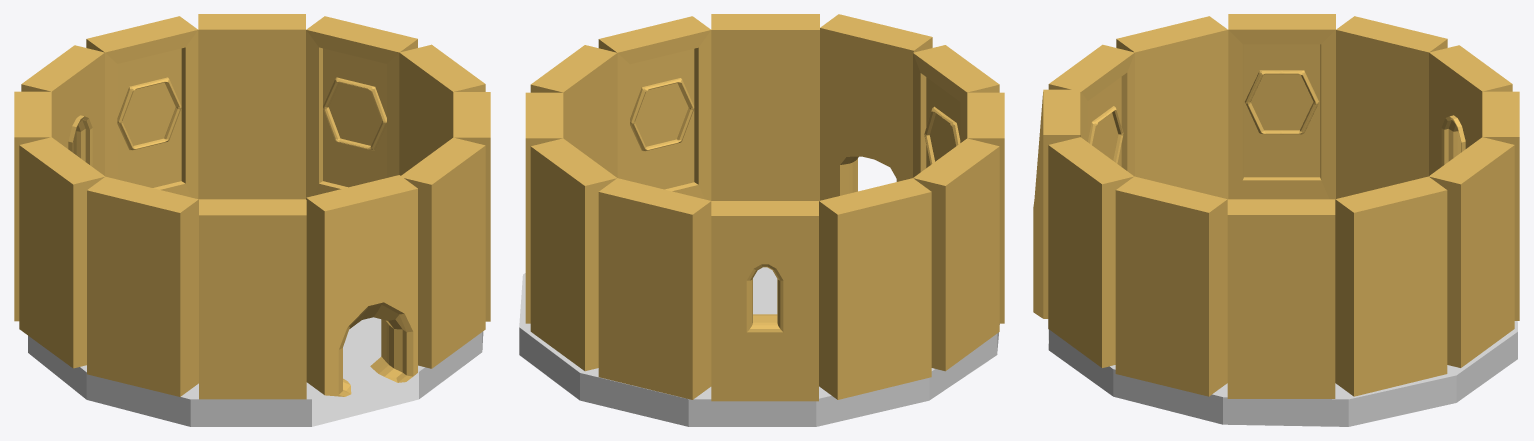
Rendered from stanza_piccola.fbx.
The picture shows the model from 3 angles, left to right: view 1: azimuth 30°, elevation 25°; view 2: azimuth 150°, elevation 25°; view 3: azimuth 270°, elevation 25°; orthographic projection.
Parts seen in each view (by area): view 1: pareteGrande_mod01.004, pareteGrande_mod01.005, pareteGrande_mod01.006, pareteGrande_mod01.021, pareteGrande_mod01.020, pareteGrande_mod01.023, Cylinder.018, pareteGrande_mod01.024, pareteGrande_mod01.007, pareteGrande_mod01.022, pareteGrande_mod02.028, pareteGrande_mod01.025 (+1 smaller); view 2: pareteGrande_mod01.020, pareteGrande_mod01.025, pareteGrande_mod02.028, pareteGrande_mod01.007, pareteGrande_mod01.018, pareteGrande_mod01.006, pareteGrande_mod01.021, pareteGrande_mod01.024, Cylinder.018, pareteGrande_mod01.022, pareteGrande_mod01.005, pareteGrande_mod01.023 (+1 smaller); view 3: pareteGrande_mod01.023, pareteGrande_mod01.018, pareteGrande_mod01.022, pareteGrande_mod01.024, pareteGrande_mod01.004, pareteGrande_mod01.025, pareteGrande_mod01.007, pareteGrande_mod01.021, Cylinder.018, pareteGrande_mod01.005, pareteGrande_mod02.028, pareteGrande_mod01.006 (+1 smaller).
Boxes of the visible parts, x1,y1,x2,y2 form: pareteGrande_mod01.004: (87, 176, 198, 396); pareteGrande_mod01.005: (199, 199, 306, 399); pareteGrande_mod01.006: (306, 175, 417, 396); pareteGrande_mod01.021: (198, 14, 305, 199); pareteGrande_mod01.020: (86, 16, 198, 198); pareteGrande_mod01.023: (306, 16, 417, 197); Cylinder.018: (28, 317, 483, 426); pareteGrande_mod01.024: (19, 137, 105, 368); pareteGrande_mod01.007: (401, 137, 485, 368); pareteGrande_mod01.022: (399, 44, 485, 175); pareteGrande_mod02.028: (21, 45, 104, 175); pareteGrande_mod01.025: (14, 91, 51, 321); pareteGrande_mod01.020: (598, 178, 711, 399); pareteGrande_mod01.025: (819, 178, 931, 399); pareteGrande_mod02.028: (711, 201, 818, 401); pareteGrande_mod01.007: (711, 14, 819, 200); pareteGrande_mod01.018: (598, 16, 711, 200); pareteGrande_mod01.006: (820, 14, 932, 200); pareteGrande_mod01.021: (530, 138, 616, 371); pareteGrande_mod01.024: (913, 138, 999, 371); Cylinder.018: (519, 267, 999, 426); pareteGrande_mod01.022: (530, 45, 617, 177); pareteGrande_mod01.005: (913, 45, 999, 177); pareteGrande_mod01.023: (525, 92, 563, 323); pareteGrande_mod01.023: (1335, 176, 1447, 396); pareteGrande_mod01.018: (1115, 176, 1227, 396); pareteGrande_mod01.022: (1227, 199, 1335, 398); pareteGrande_mod01.024: (1228, 14, 1335, 199); pareteGrande_mod01.004: (1116, 16, 1228, 199); pareteGrande_mod01.025: (1336, 16, 1447, 198); pareteGrande_mod01.007: (1048, 137, 1133, 367); pareteGrande_mod01.021: (1429, 137, 1514, 367); Cylinder.018: (1047, 319, 1517, 426); pareteGrande_mod01.005: (1048, 44, 1134, 176); pareteGrande_mod02.028: (1429, 45, 1512, 175); pareteGrande_mod01.006: (1033, 89, 1080, 318).
Size of the model in its own units: 10667 by 5316 by 10883.
